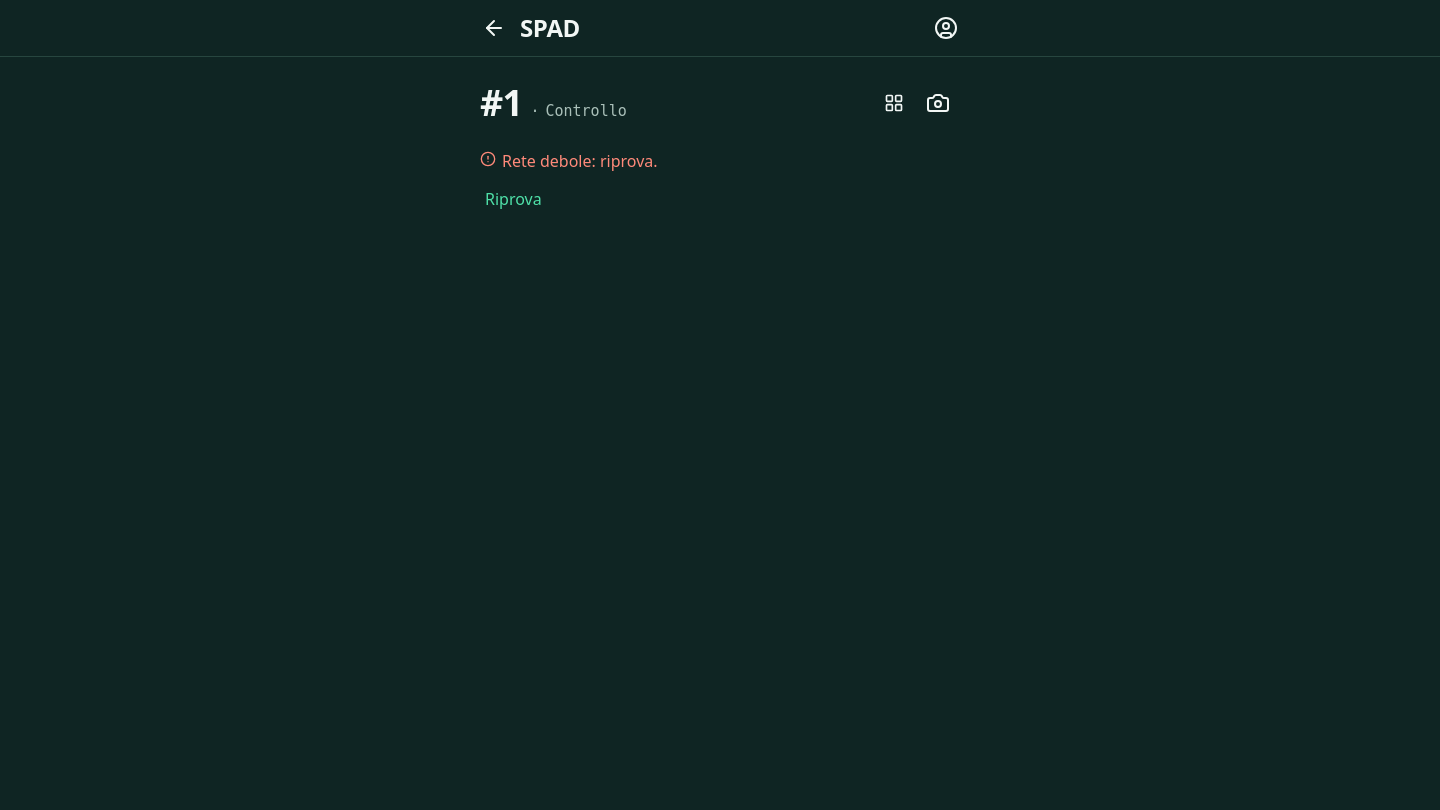
MisuraPianta: intestazione › se le misure del giorno non si leggono lo dice, con "Riprova"
This screenshot has width=1440, height=810.
Check: the message shows "Rete debole", box [502,150,658,172]
Check: the button "Salva" is not shown
Click the button "Riprova" at coordinates (513, 199), box [468,177,559,221]
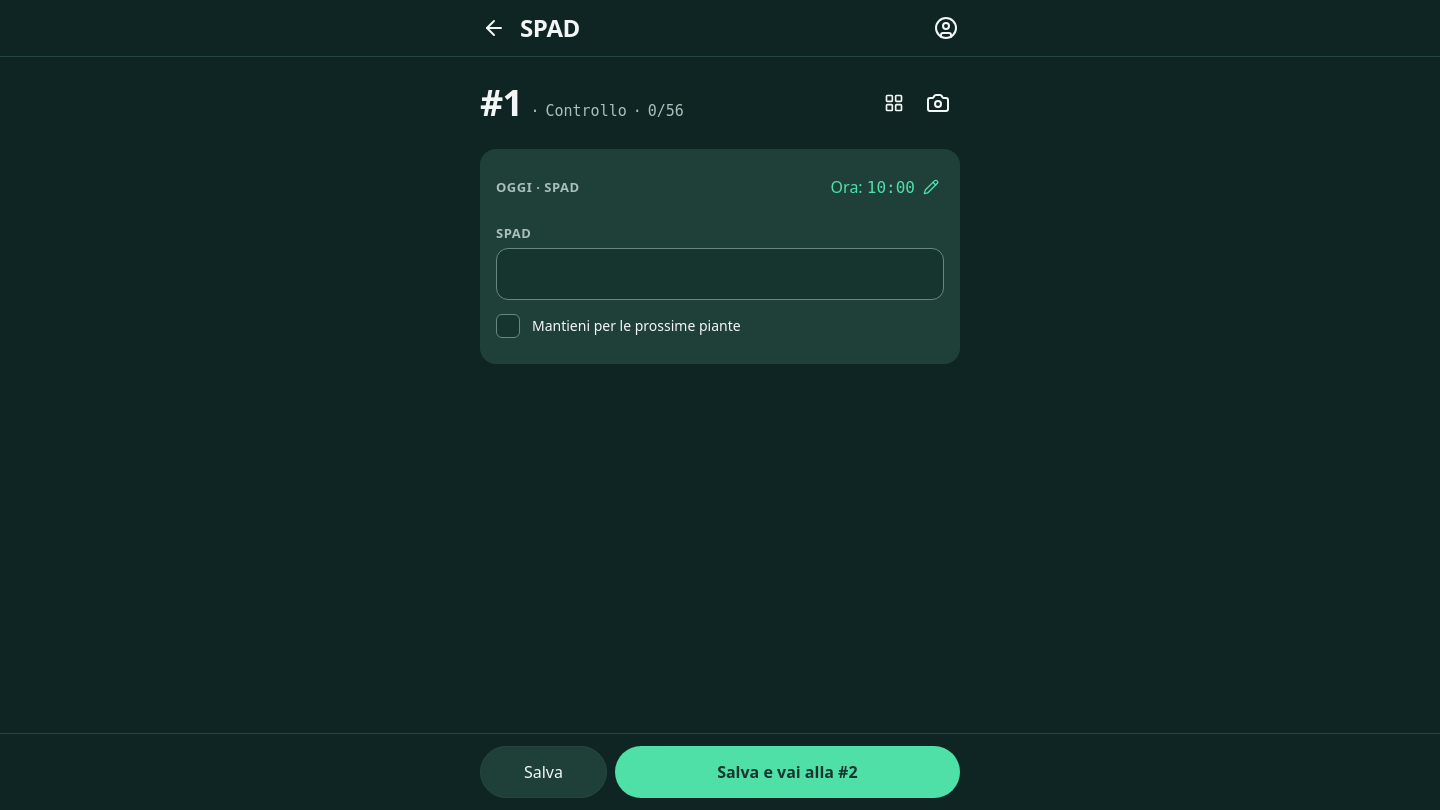
Check: the button "Ora: 10:00" is shown, box [814,165,956,209]
